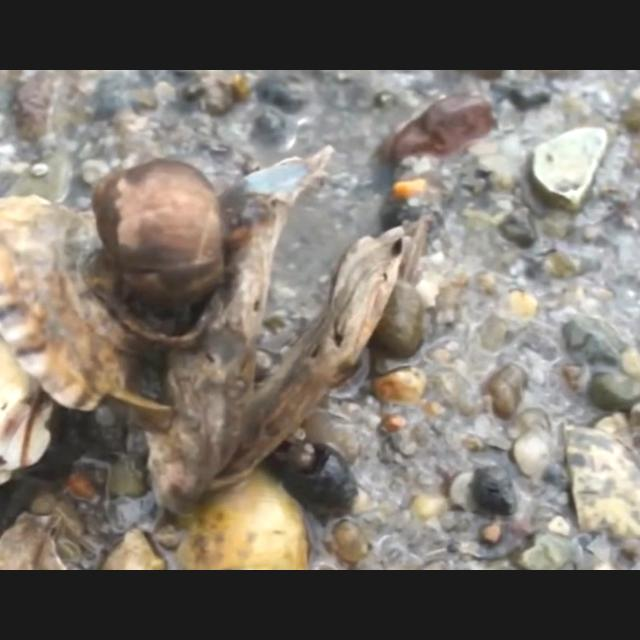Oyster-Closed: (0, 195, 142, 415)
Oyster-Open: (143, 147, 419, 518)
